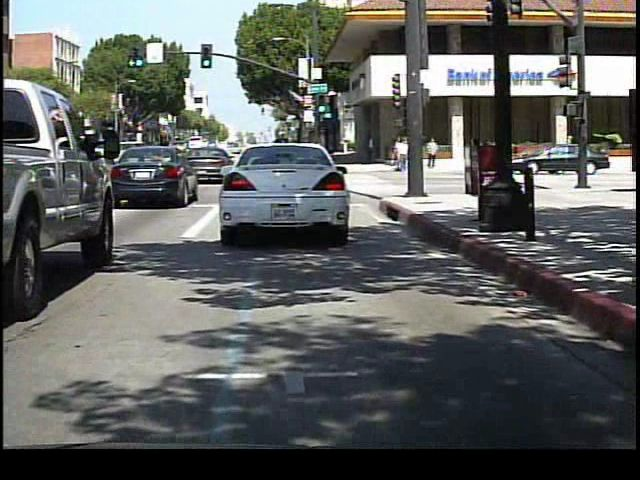person: (488, 135, 508, 173), (425, 135, 441, 170), (395, 137, 409, 176)
